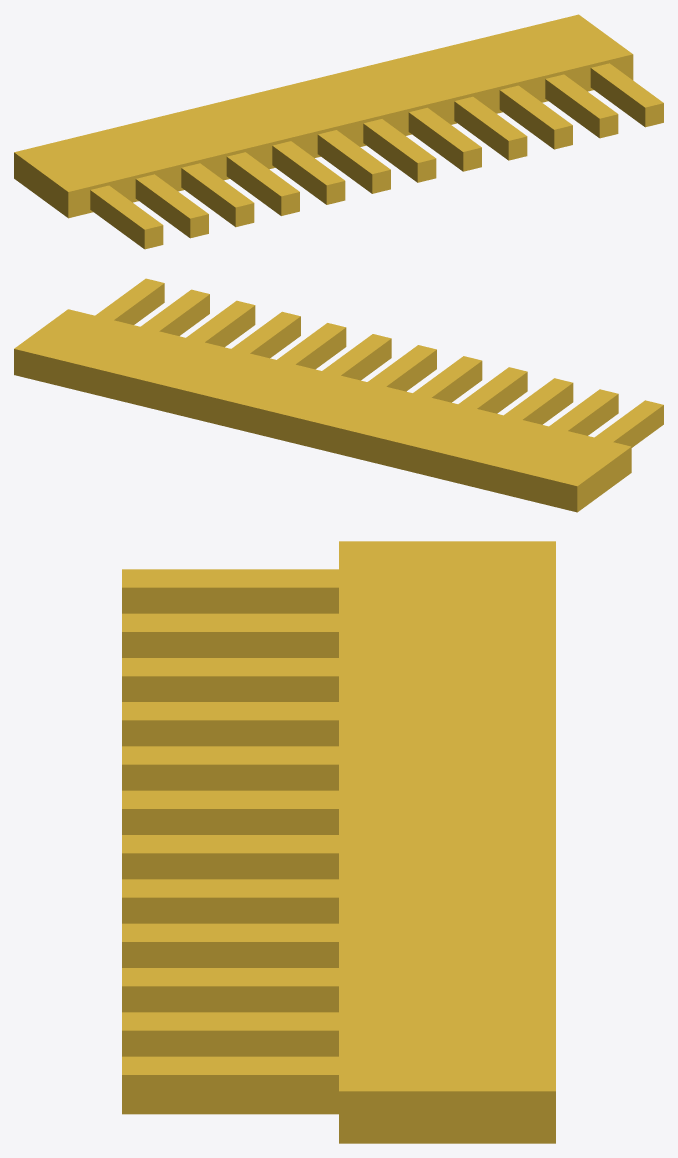
The model's file is gold_comb.glb.
The picture shows the model from 3 angles, top to bottom: view 1: azimuth 30°, elevation 25°; view 2: azimuth 150°, elevation 25°; view 3: azimuth 270°, elevation 25°; orthographic projection. The views are drawn at different scales.
Visible parts, largest first — view 1: spine_comb_gold, teeth_comb_gold; view 2: spine_comb_gold, teeth_comb_gold; view 3: spine_comb_gold, teeth_comb_gold.
Boxes of the visible parts, x1,y1,x2,y2 form: spine_comb_gold: (14, 14, 633, 218); teeth_comb_gold: (90, 63, 663, 249); spine_comb_gold: (14, 309, 631, 512); teeth_comb_gold: (95, 278, 663, 447); spine_comb_gold: (339, 541, 555, 1143); teeth_comb_gold: (122, 569, 338, 1114).
Bounding box in the file's own units: 0.18 × 0.008 × 0.06.
